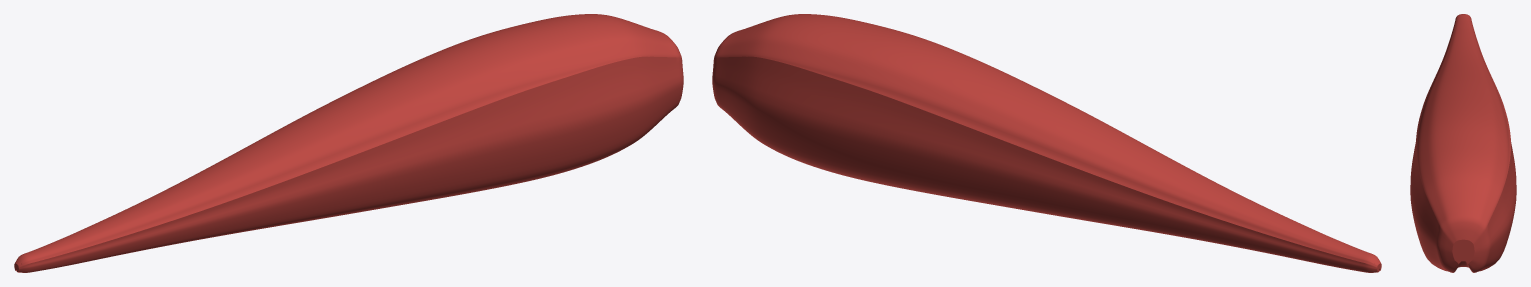
File: chopper_1.glb
The picture shows the model from 3 angles, left to right: view 1: azimuth 30°, elevation 25°; view 2: azimuth 150°, elevation 25°; view 3: azimuth 270°, elevation 25°; orthographic projection. The views are drawn at different scales.
Parts seen in each view (by area): view 1: chopper_1; view 2: chopper_1; view 3: chopper_1.
Part boxes in pixels (box(x1,y1,x2,y2)): chopper_1: box(14, 14, 683, 272); chopper_1: box(712, 14, 1381, 272); chopper_1: box(1410, 14, 1516, 272).
Size of the model in its own units: 1.06 by 0.2027 by 0.1817.
